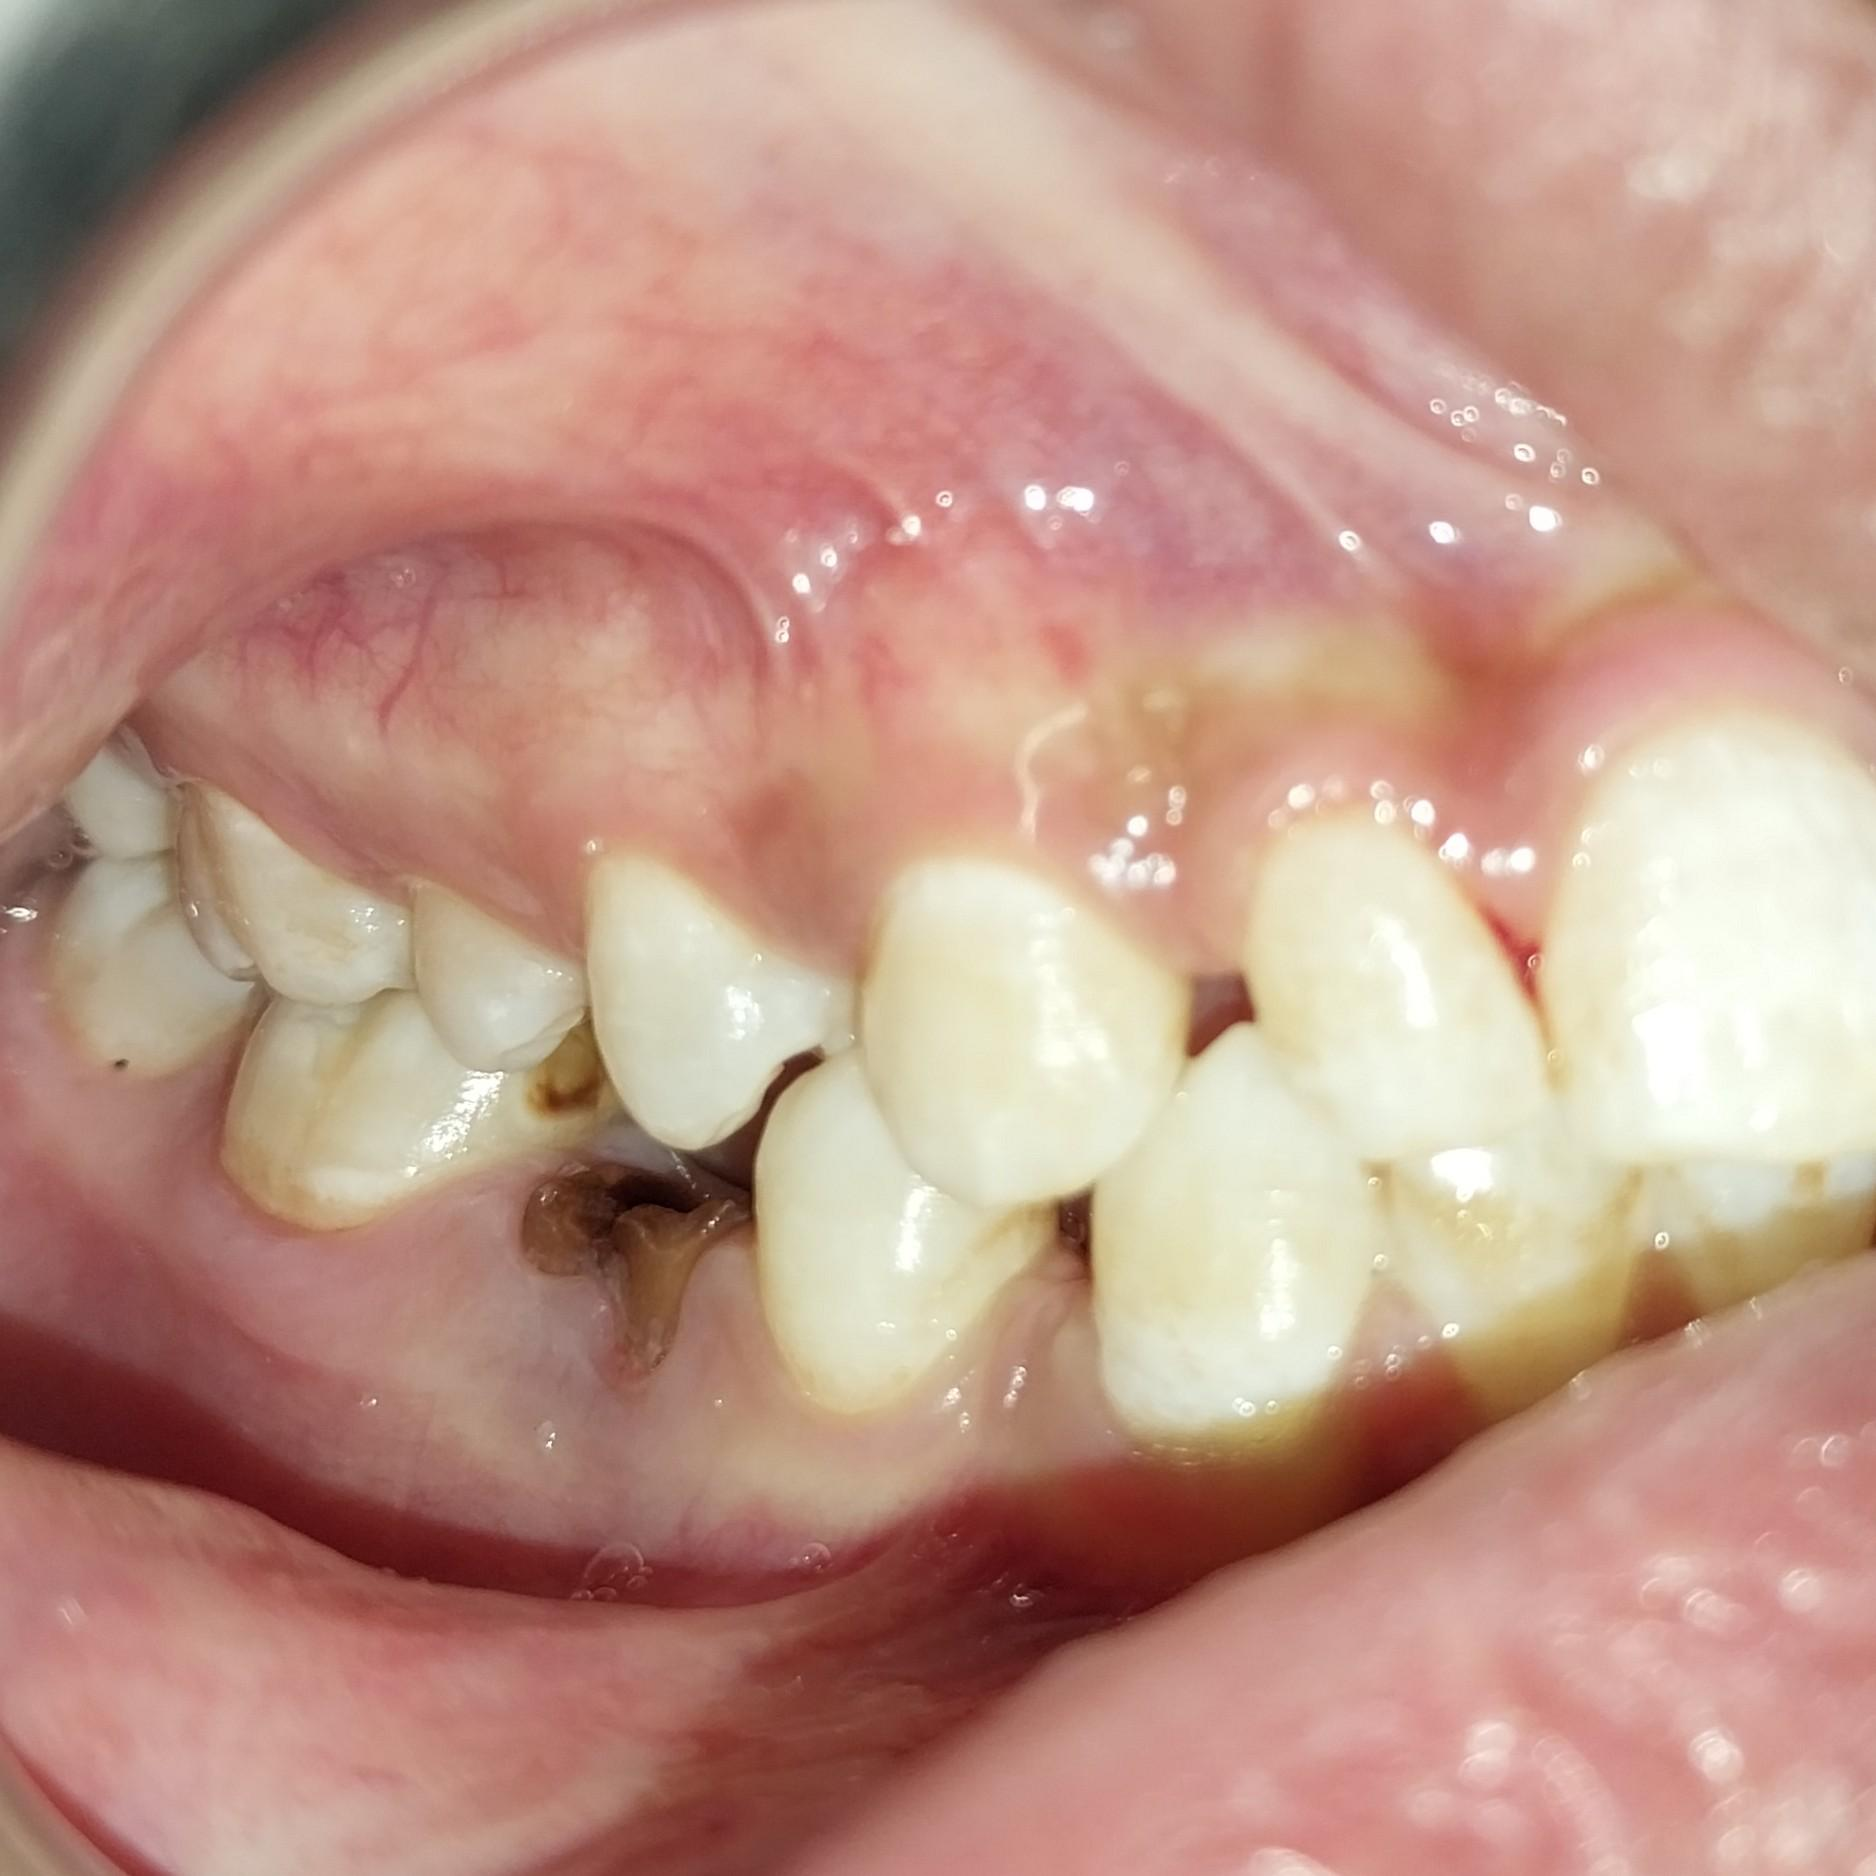D: (508, 1144, 750, 1392)
